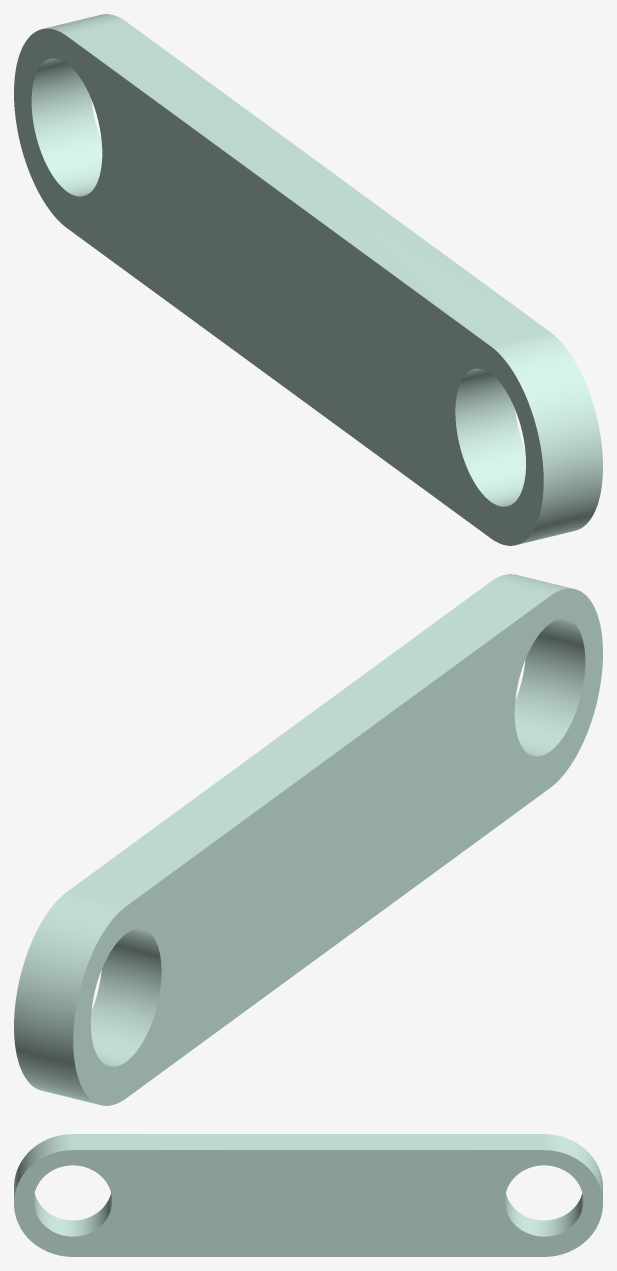
3 views of the same model, one above another, from view 1: azimuth 30°, elevation 25°; view 2: azimuth 150°, elevation 25°; view 3: azimuth 270°, elevation 25° (orthographic). The views are drawn at different scales.
Parts seen in each view (by area): view 1: Renderer Node; view 2: Renderer Node; view 3: Renderer Node.
Boxes of the visible parts, x1=… form: Renderer Node: x1=14, y1=14, x2=602, y2=545; Renderer Node: x1=14, y1=574, x2=602, y2=1105; Renderer Node: x1=14, y1=1134, x2=602, y2=1256.
Bounding box in the file's own units: 0.0938 × 0.2901 × 1.45.
